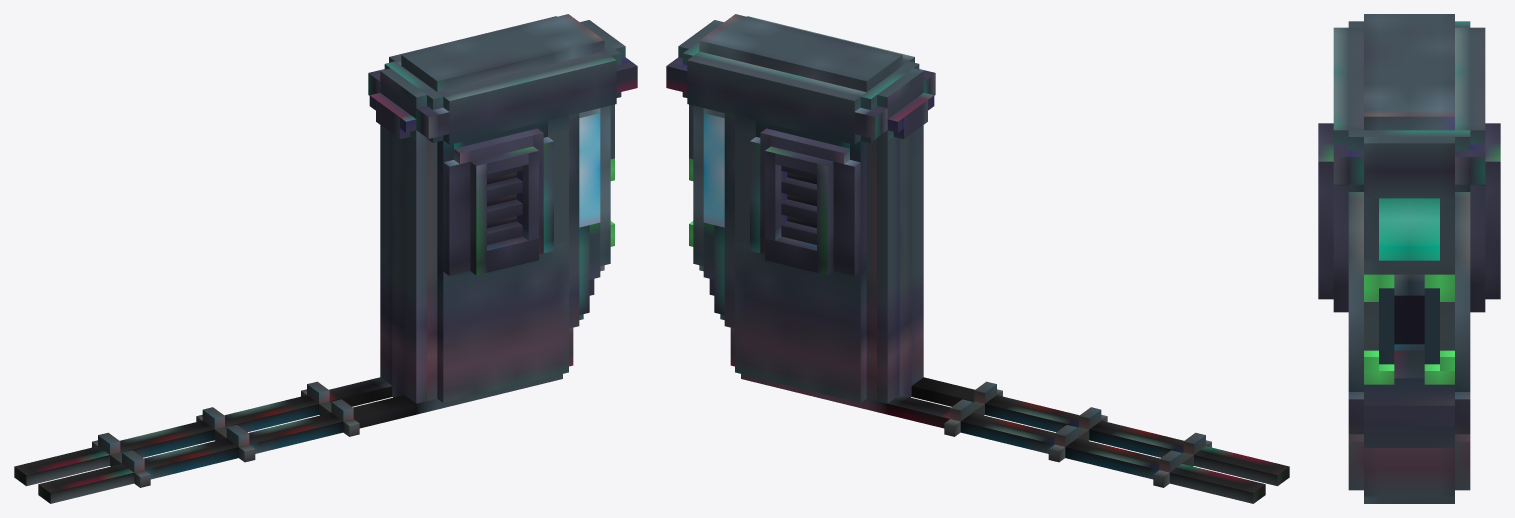
File: Machine_Parkmeter_Cabled_00.fbx
The picture shows the model from 3 angles, left to right: view 1: azimuth 30°, elevation 25°; view 2: azimuth 150°, elevation 25°; view 3: azimuth 270°, elevation 25°; orthographic projection. The views are drawn at different scales.
Visible parts, largest first — view 1: Machine_Parkmeter_Cabled_00; view 2: Machine_Parkmeter_Cabled_00; view 3: Machine_Parkmeter_Cabled_00.
Boxes of the visible parts, box(x1,y1,x2,y2) form: Machine_Parkmeter_Cabled_00: box(14, 14, 637, 503); Machine_Parkmeter_Cabled_00: box(666, 14, 1289, 503); Machine_Parkmeter_Cabled_00: box(1318, 14, 1500, 503).
Size of the model in its own units: 275 by 150 by 60.
